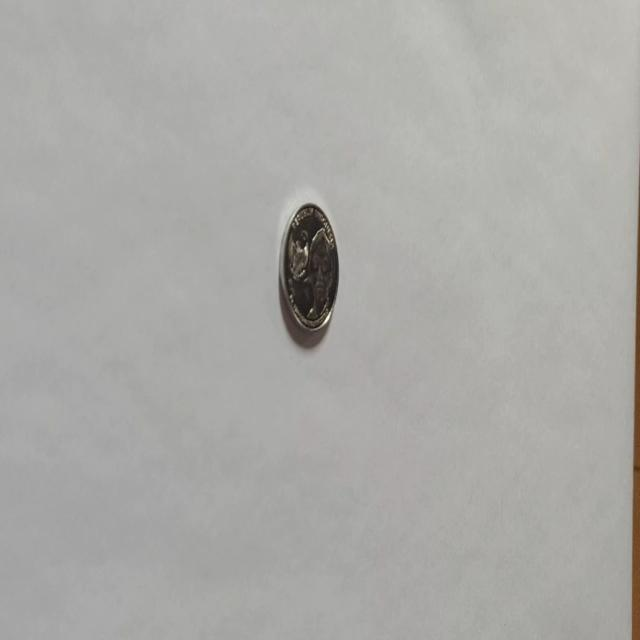dua ratus rupiah: (278, 200, 339, 334)
